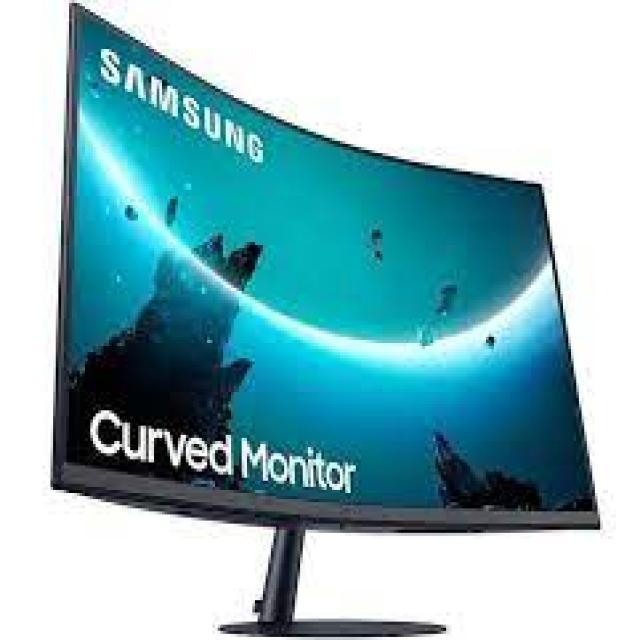monitor: (48, 0, 609, 640)
